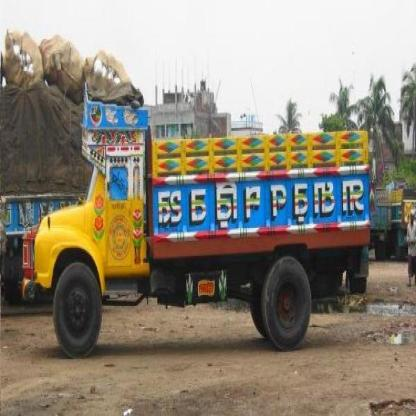truck: (30, 96, 372, 348), (0, 144, 92, 298), (366, 177, 390, 256), (393, 177, 413, 256)
